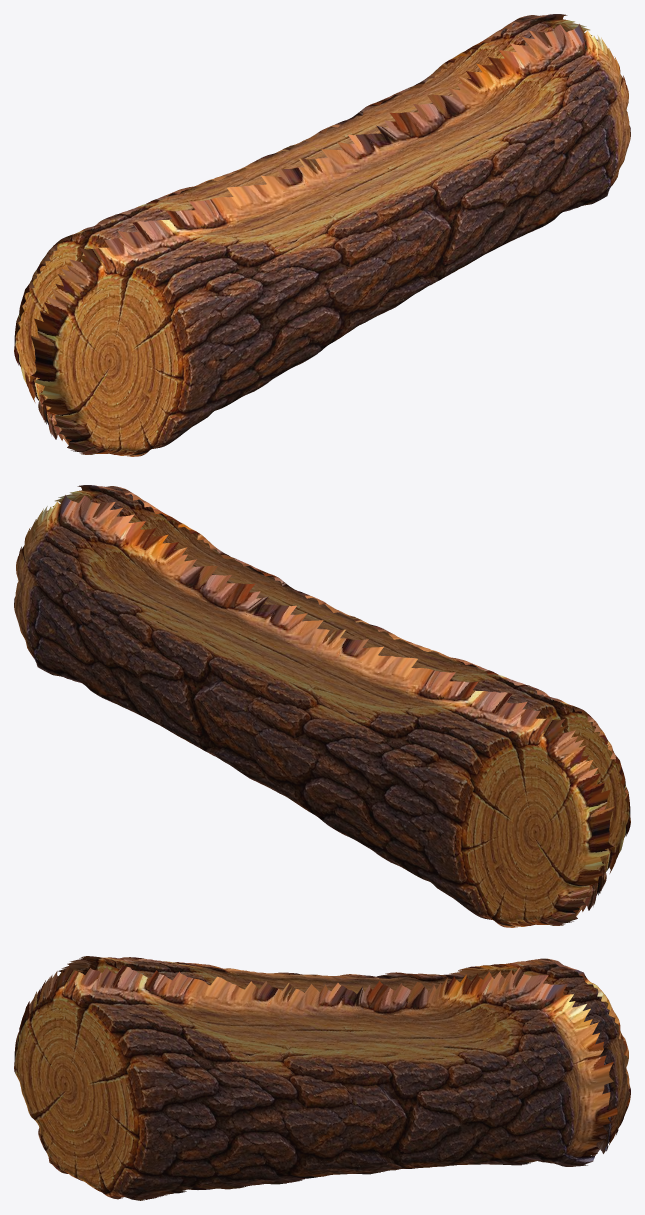
The model's file is v4-prop-watch-log.glb.
3 views of the same model, one above another, from view 1: azimuth 30°, elevation 25°; view 2: azimuth 150°, elevation 25°; view 3: azimuth 330°, elevation 25° (orthographic).
Visible parts, largest first — view 1: v4-prop-watch-log; view 2: v4-prop-watch-log; view 3: v4-prop-watch-log.
Boxes of the visible parts, x1,y1,x2,y2 form: v4-prop-watch-log: (14,14,630,456); v4-prop-watch-log: (14,485,630,927); v4-prop-watch-log: (14,956,630,1200).
Size of the model in its own units: 0.8433 by 0.4393 by 0.108.
1 material, 1 textured.
